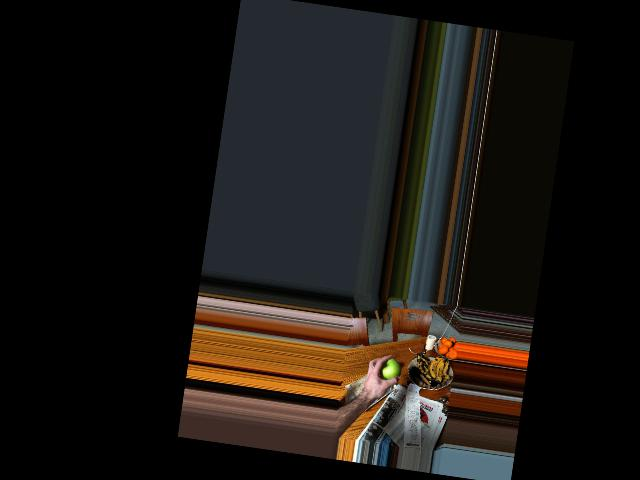apple: (376, 353, 403, 385)
